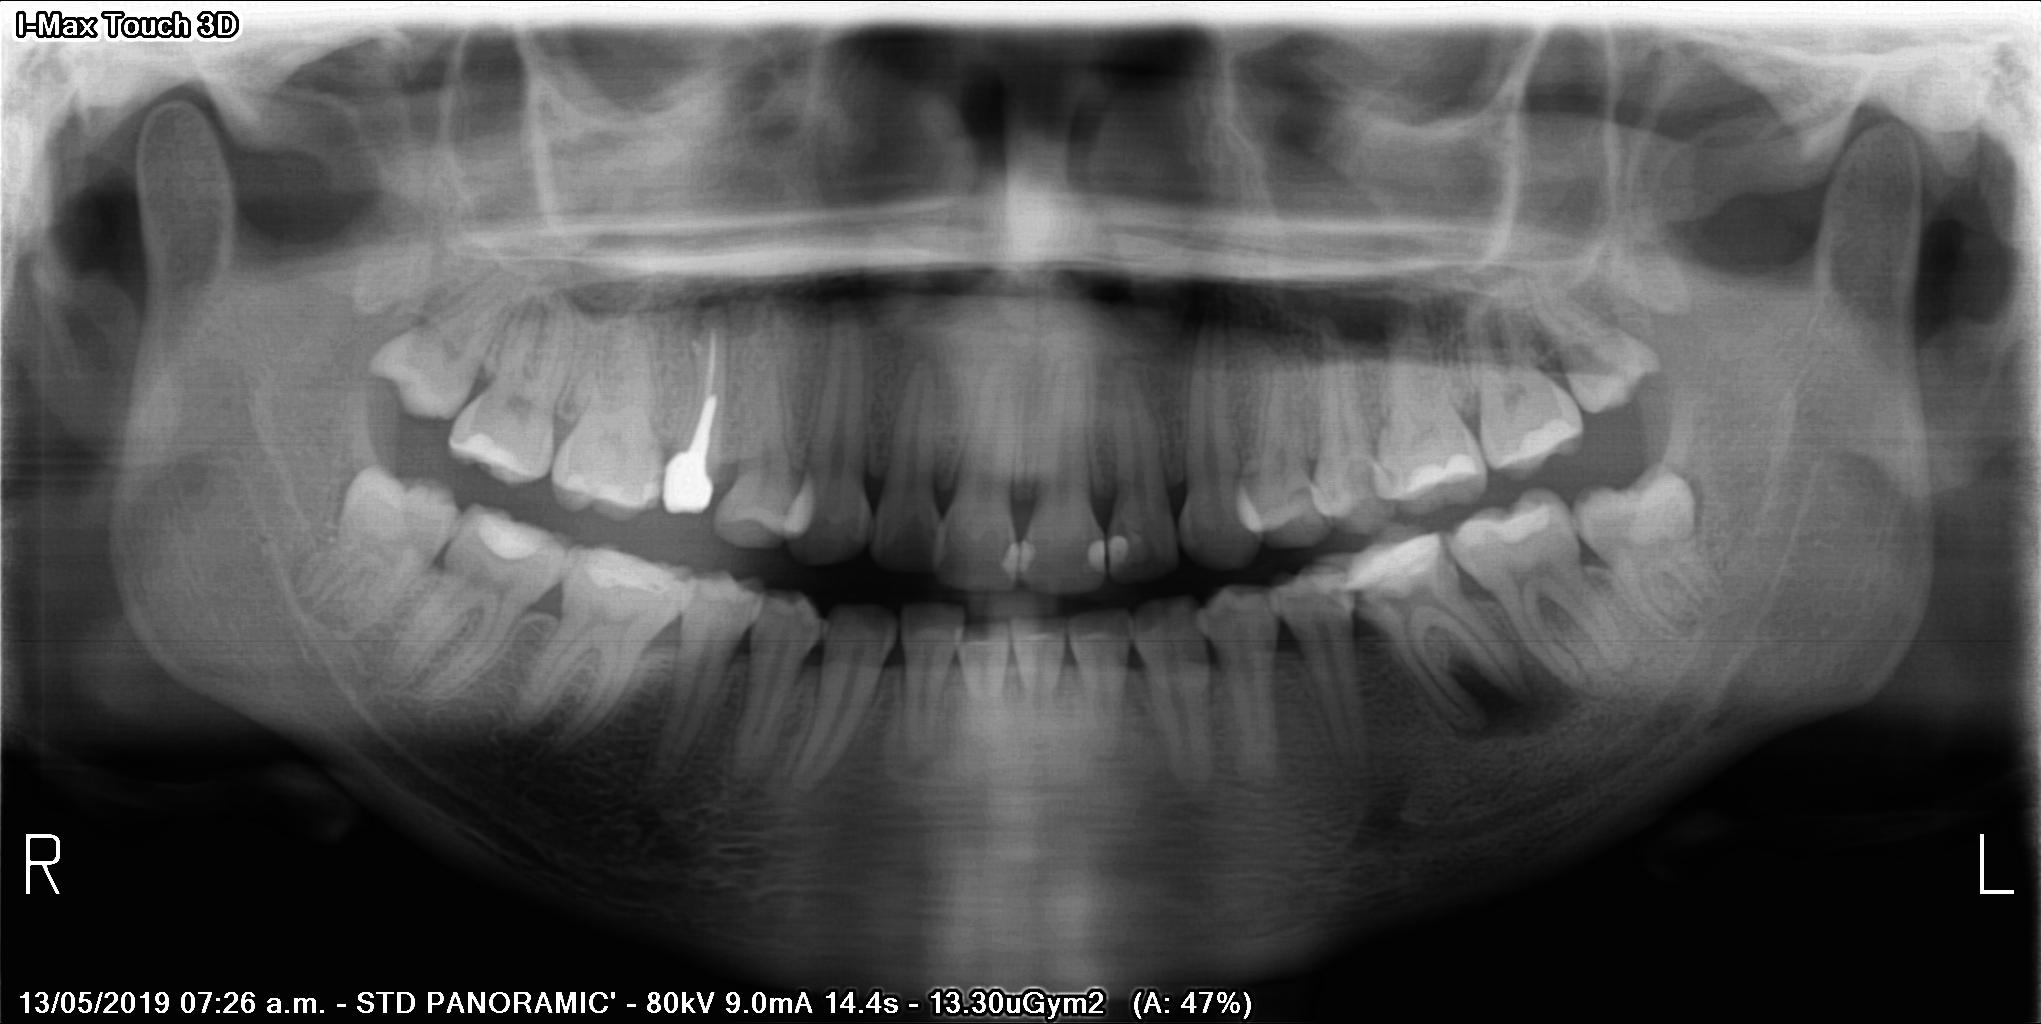Çürük: (1342, 536, 1451, 589), (1457, 503, 1567, 547), (1496, 415, 1589, 466), (474, 517, 564, 566), (449, 423, 525, 481), (659, 448, 720, 515), (1396, 451, 1473, 495), (1002, 542, 1030, 577), (1113, 536, 1127, 572), (1094, 545, 1109, 566)
Çürük Bölgesi: (1342, 453, 1389, 509), (1331, 573, 1369, 626), (1026, 545, 1051, 583)
